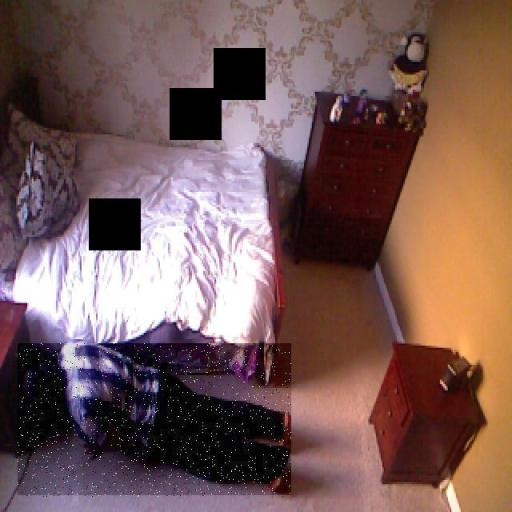Fall: (18, 344, 291, 498)
